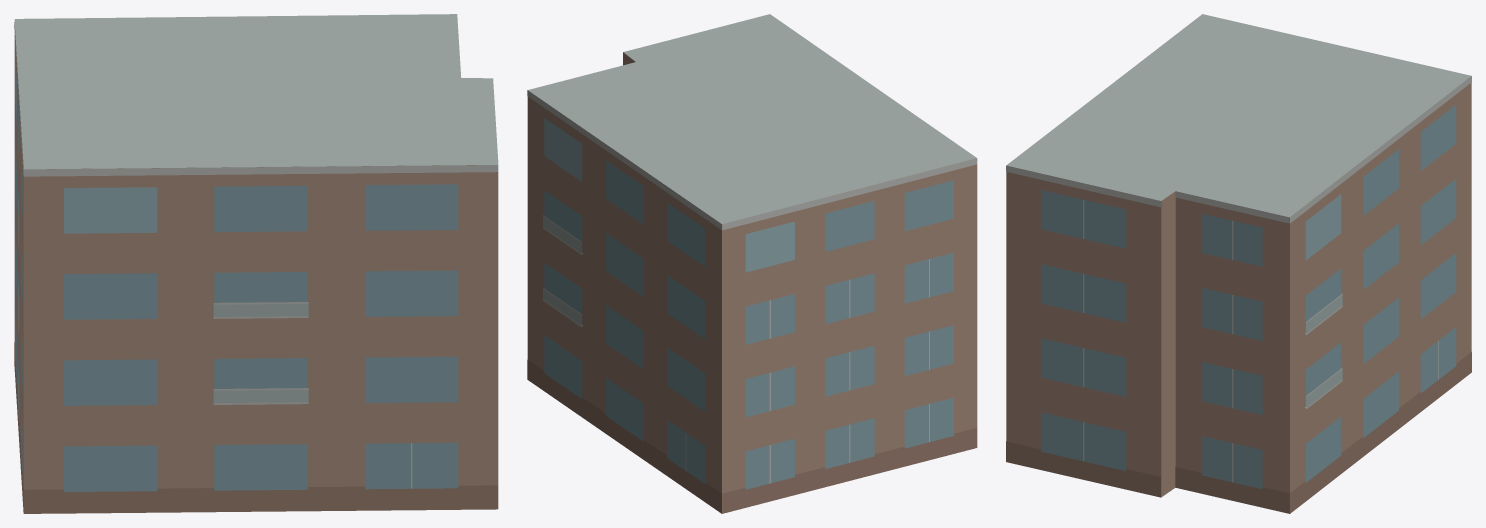
File: survey-upis-32907188.glb
3 views of the same model, side by side, from view 1: azimuth 30°, elevation 25°; view 2: azimuth 150°, elevation 25°; view 3: azimuth 270°, elevation 25° (orthographic). The views are drawn at different scales.
Parts seen in each view (by area): view 1: survey-upis-32907188.tmp; view 2: survey-upis-32907188.tmp; view 3: survey-upis-32907188.tmp.
Boxes of the visible parts, <box> form: survey-upis-32907188.tmp: <box>14,14,498,513</box>; survey-upis-32907188.tmp: <box>527,14,977,513</box>; survey-upis-32907188.tmp: <box>1006,14,1471,513</box>.
Bounding box in the file's own units: 16.93 × 11.5 × 16.38.
